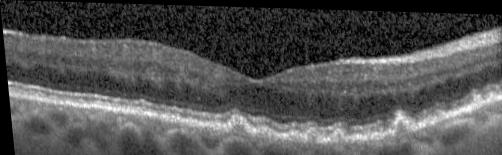retinal_drusen: (228, 118, 248, 137), (425, 107, 445, 124), (467, 90, 483, 107), (326, 129, 345, 143), (253, 127, 277, 138), (392, 118, 407, 134), (484, 87, 499, 101), (303, 129, 318, 143), (282, 131, 300, 141), (346, 134, 363, 142), (370, 133, 380, 138)
